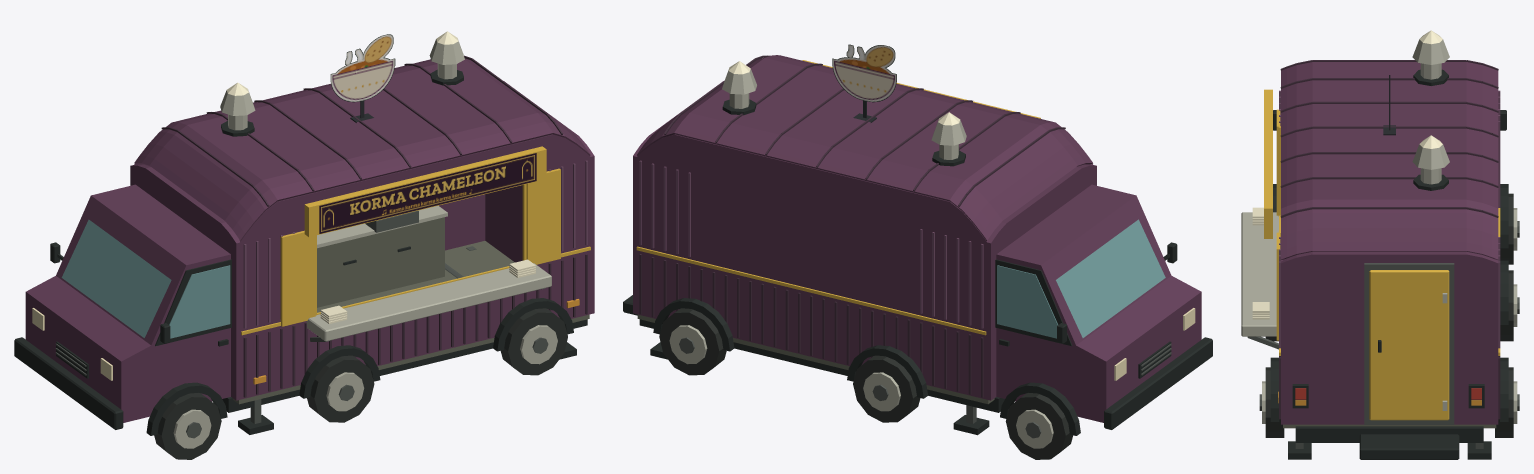
The model's file is ft_food_curry_production_v1.glb.
The picture shows the model from 3 angles, left to right: view 1: azimuth 30°, elevation 25°; view 2: azimuth 150°, elevation 25°; view 3: azimuth 270°, elevation 25°; orthographic projection. The views are drawn at different scales.
Visible parts, largest first — view 1: ft_food_curry_production_v1; view 2: ft_food_curry_production_v1; view 3: ft_food_curry_production_v1.
Boxes of the visible parts, bbox=[...] form: ft_food_curry_production_v1: bbox=[14, 31, 594, 459]; ft_food_curry_production_v1: bbox=[623, 44, 1212, 459]; ft_food_curry_production_v1: bbox=[1241, 30, 1519, 459].
Size of the model in its own units: 6.07 by 3.84 by 2.81.
Materials: 4 (3 with a texture image).
